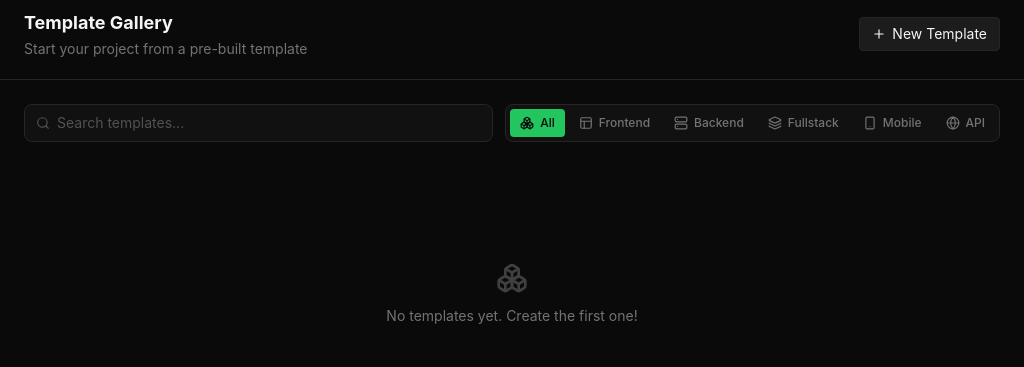
it: TemplateGallery › shows empty state with clear filters option when filters are active
// Type in search
Type "nonexistent" into the field with placeholder "Search templates..." at (259, 123), box [24,104,493,142]
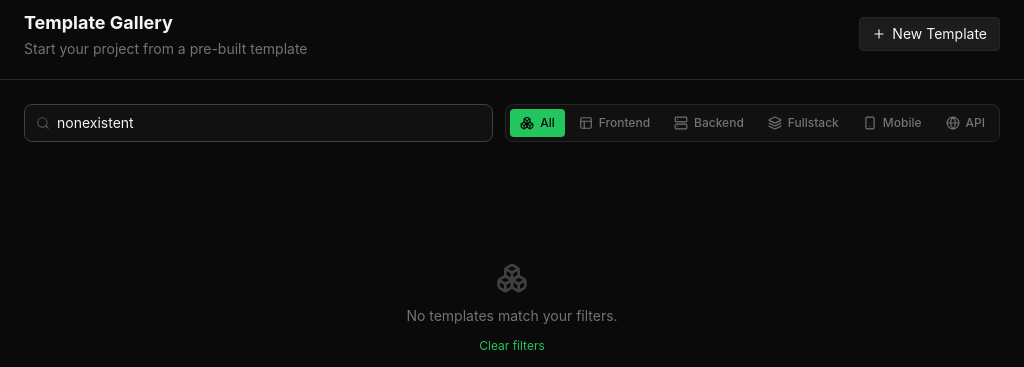
Check: the text "No templates match your filters." is shown, box [406,306,618,326]
